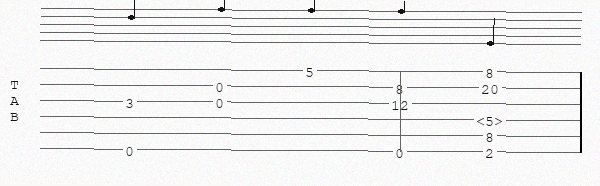0: (125, 144, 138, 157), (215, 96, 228, 109), (215, 80, 228, 93), (395, 144, 408, 157)
12: (391, 96, 413, 109)
2: (485, 144, 498, 157)
20: (481, 80, 503, 93)
3: (125, 96, 138, 109)
5: (305, 64, 318, 77)
8: (395, 80, 408, 93), (485, 64, 498, 77), (485, 128, 498, 141)
harmonic: (476, 112, 507, 125)
